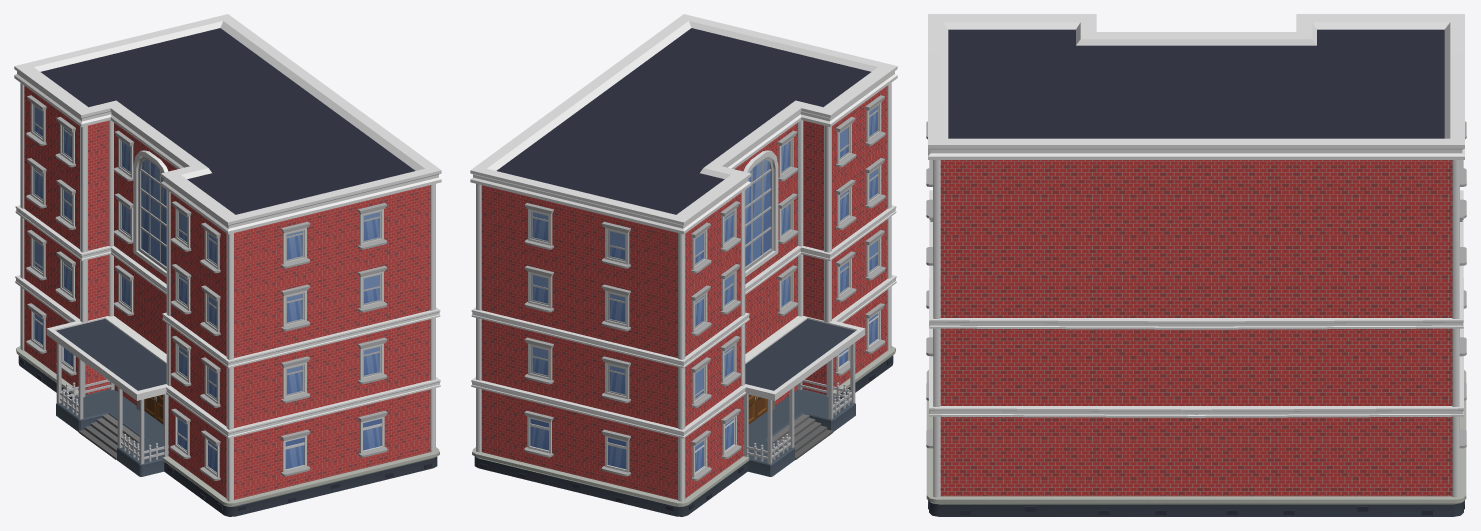
The model's file is Building_5_3_B.glb.
3 renders of one model, left to right at view 1: azimuth 30°, elevation 25°; view 2: azimuth 150°, elevation 25°; view 3: azimuth 270°, elevation 25°, orthographic. The views are drawn at different scales.
Visible parts, largest first — view 1: Building_5_3_B; view 2: Building_5_3_B; view 3: Building_5_3_B.
Boxes of the visible parts, x1,y1,x2,y2 form: Building_5_3_B: [14, 14, 441, 516]; Building_5_3_B: [470, 14, 897, 516]; Building_5_3_B: [926, 14, 1466, 516].
Size of the model in its own units: 12.51 by 14.5 by 19.08.
4 materials, 4 textured.
